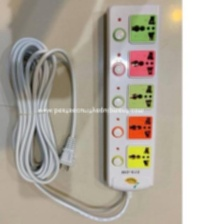three_eye_plug: (98, 1, 163, 196)
